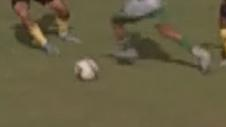ball: (73, 55, 103, 83)
